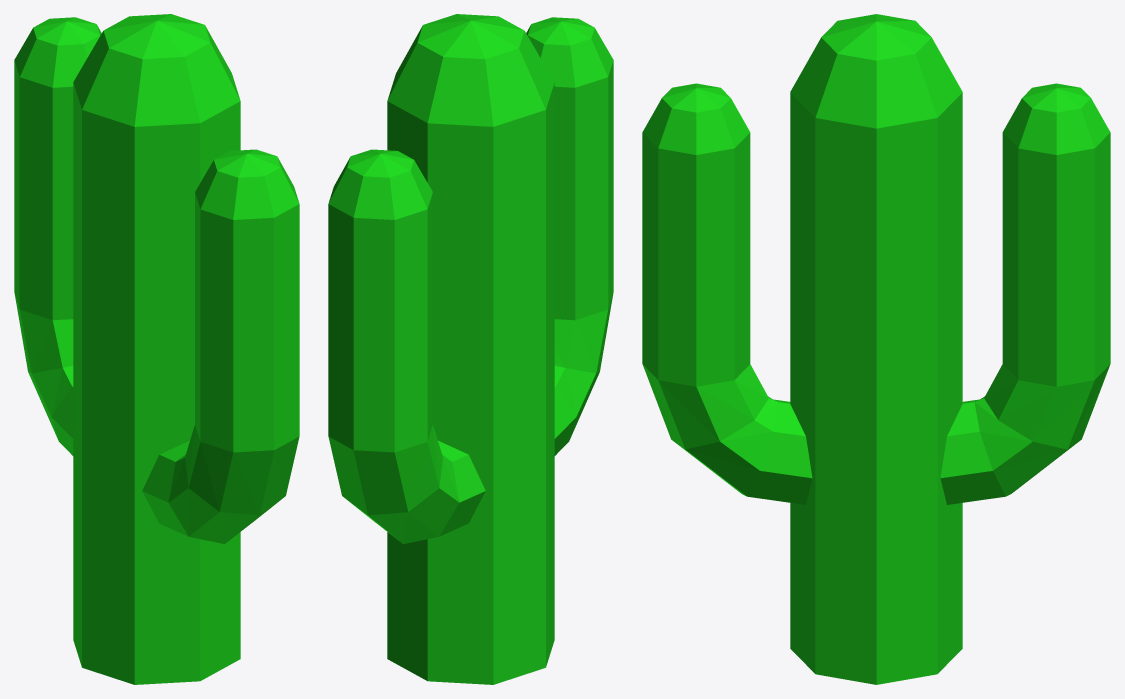
The model's file is cactus1.FBX.
3 renders of one model, left to right at view 1: azimuth 30°, elevation 25°; view 2: azimuth 150°, elevation 25°; view 3: azimuth 270°, elevation 25°, orthographic.
Parts seen in each view (by area): view 1: cactus1; view 2: cactus1; view 3: cactus1.
Boxes of the visible parts, <box> form: cactus1: <box>14,14,299,684</box>; cactus1: <box>328,14,613,684</box>; cactus1: <box>642,14,1110,684</box>.
Bounding box in the file's own units: 1.52 × 6.09 × 4.12.
